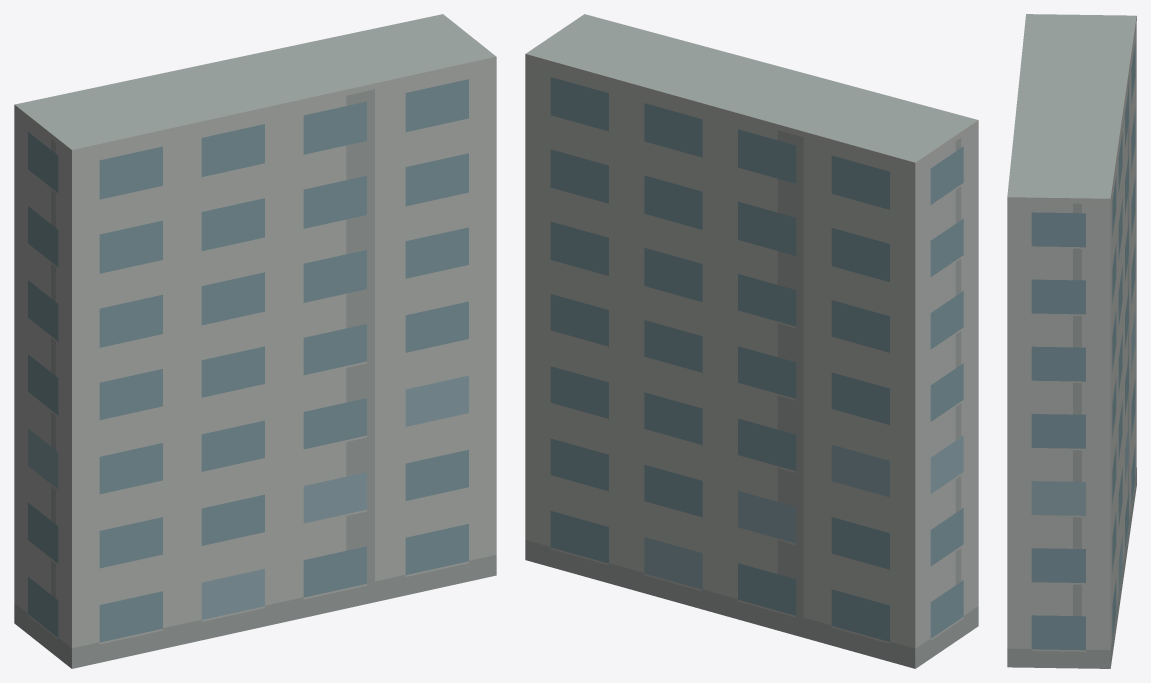
Rendered from survey-upis-32552474.glb.
3 renders of one model, left to right at view 1: azimuth 30°, elevation 25°; view 2: azimuth 150°, elevation 25°; view 3: azimuth 270°, elevation 25°, orthographic. The views are drawn at different scales.
Parts seen in each view (by area): view 1: survey-upis-32552474.tmp; view 2: survey-upis-32552474.tmp; view 3: survey-upis-32552474.tmp.
Boxes of the visible parts, x1,y1,x2,y2 form: survey-upis-32552474.tmp: (14,14,496,668); survey-upis-32552474.tmp: (525,14,978,668); survey-upis-32552474.tmp: (1007,14,1136,668).
Size of the model in its own units: 18 by 21.35 by 5.34.
